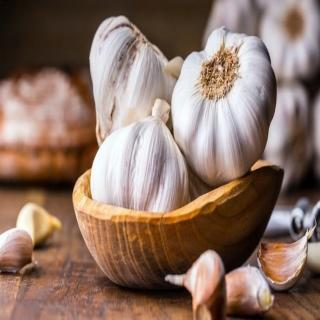Bawang Putih: (171, 26, 285, 191)
